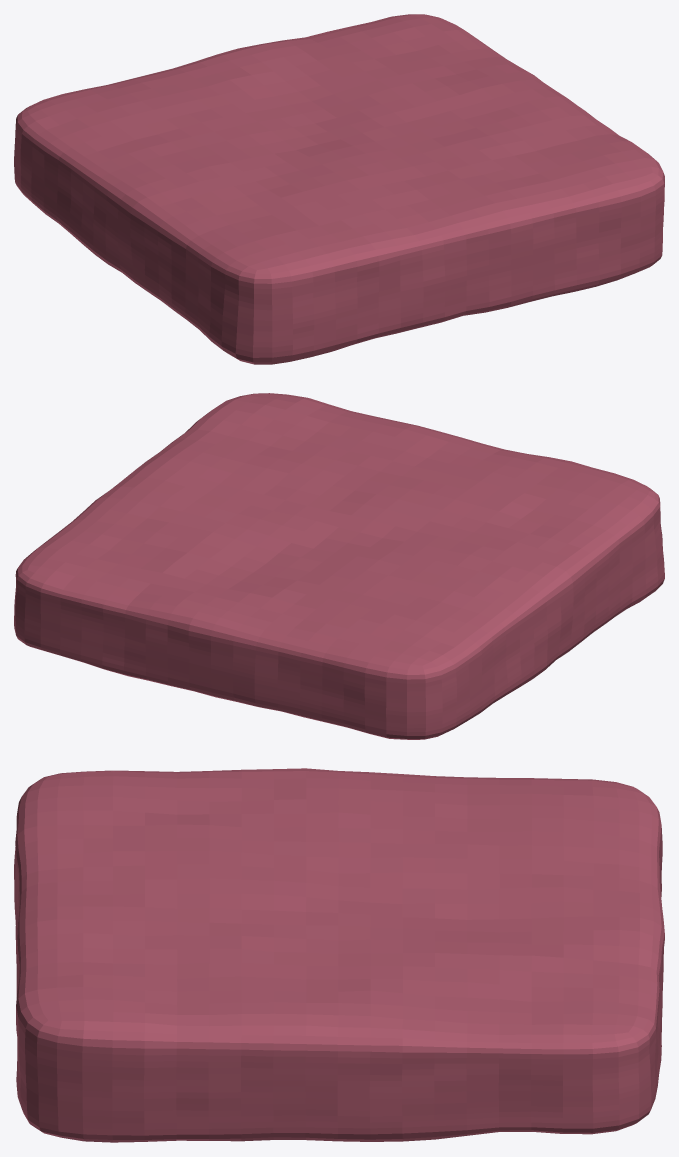
3 renders of one model, top to bottom at view 1: azimuth 30°, elevation 25°; view 2: azimuth 150°, elevation 25°; view 3: azimuth 270°, elevation 25°, orthographic. The views are drawn at different scales.
Bounding box in the file's own units: 1.11 × 0.2468 × 1.11.
